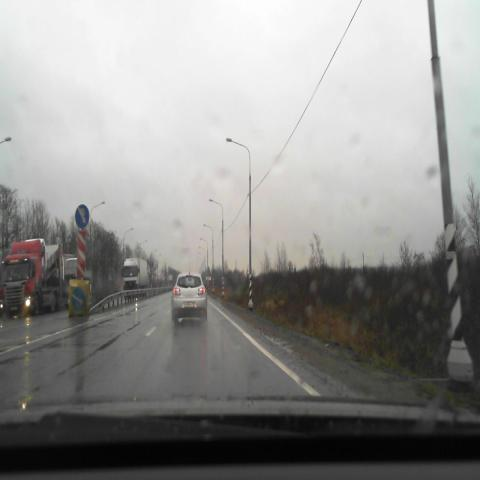4_2_1: (75, 203, 89, 228)
